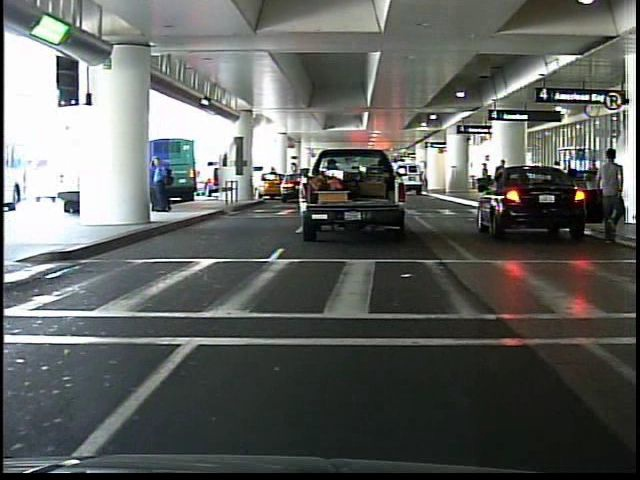person: (589, 145, 630, 244), (150, 148, 176, 216)
